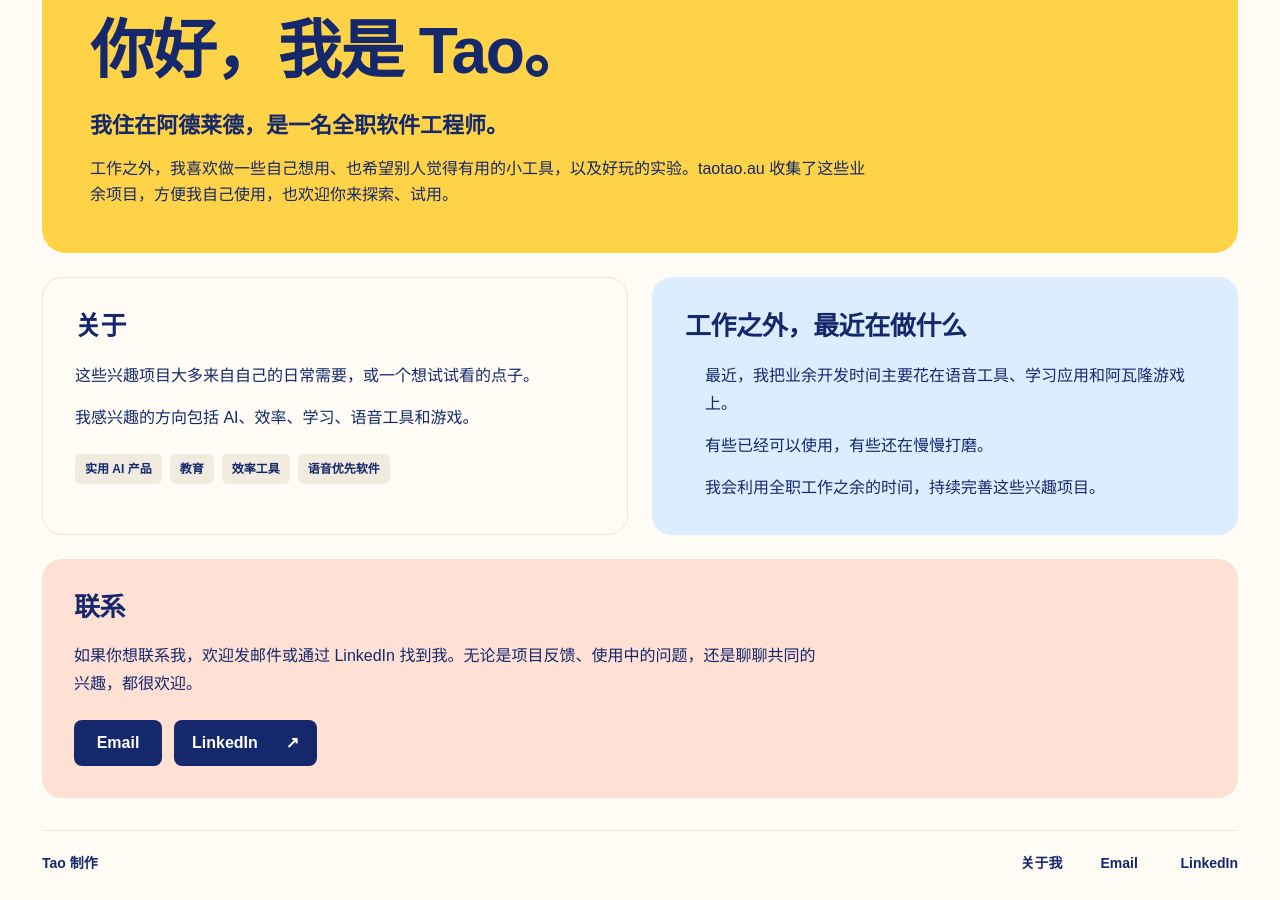
Scenario: Email contact › uses a disclosure instead of mailto across both pages in zh
(page scrolled)
Expected: the button "Email" below "实用 AI 产品" is shown, [86, 720, 150, 766]
Step 1. Click the 2nd button "Email" → (1121, 864), box [1100, 853, 1142, 874]
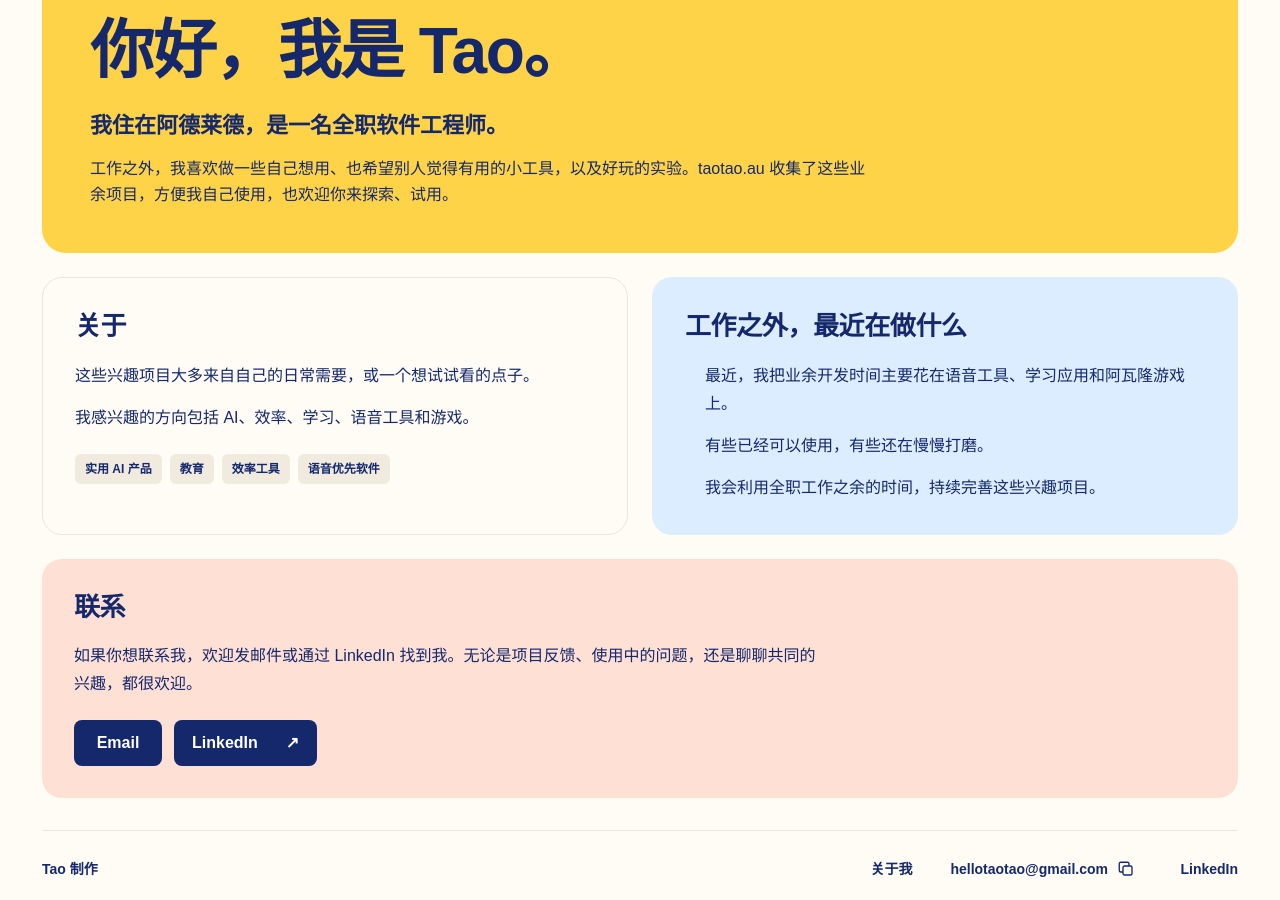
Expected: the text "hellotaotao@gmail.com" is shown, [950, 861, 1108, 877]
